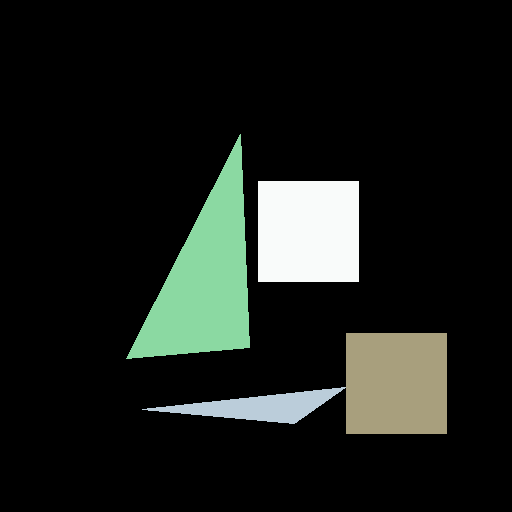circle: (142, 333, 446, 433)
square: (258, 181, 358, 281)
triangle: (126, 134, 249, 358)
